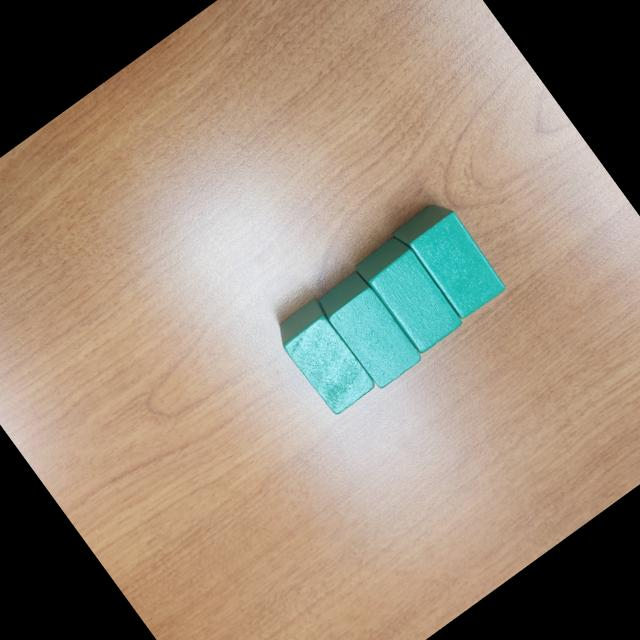green: (389, 194, 510, 326), (351, 229, 466, 357), (269, 296, 382, 420), (314, 268, 424, 391)
